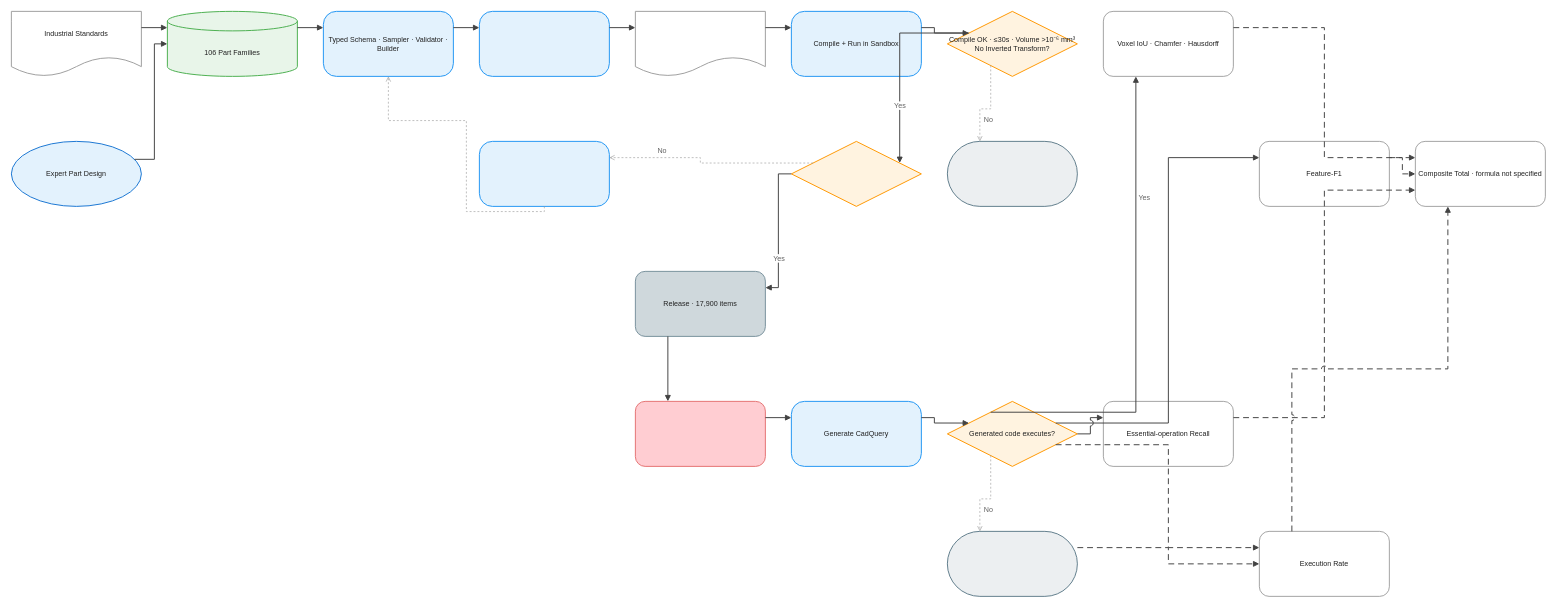
Image size: 1557x608. Some labels were removed from this diagram. The shapes that lost their labels are listed below. From the top down, each one's centre as x and y in pixels, then its label:
point 544,44: Easy / Medium / Hard Parameters
point 700,44: CadQuery Program
point 544,174: Revise Generator / Family
point 856,174: Expert Visual Sign-off?
point 1012,174: Quarantine
point 700,434: 4 Canonical Orthographic Views
point 1012,564: Execution failure
